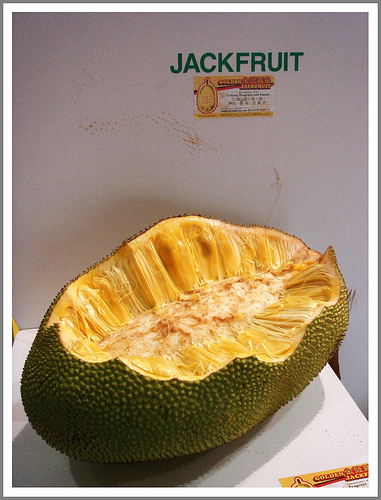jackfruit: (17, 209, 357, 468)
